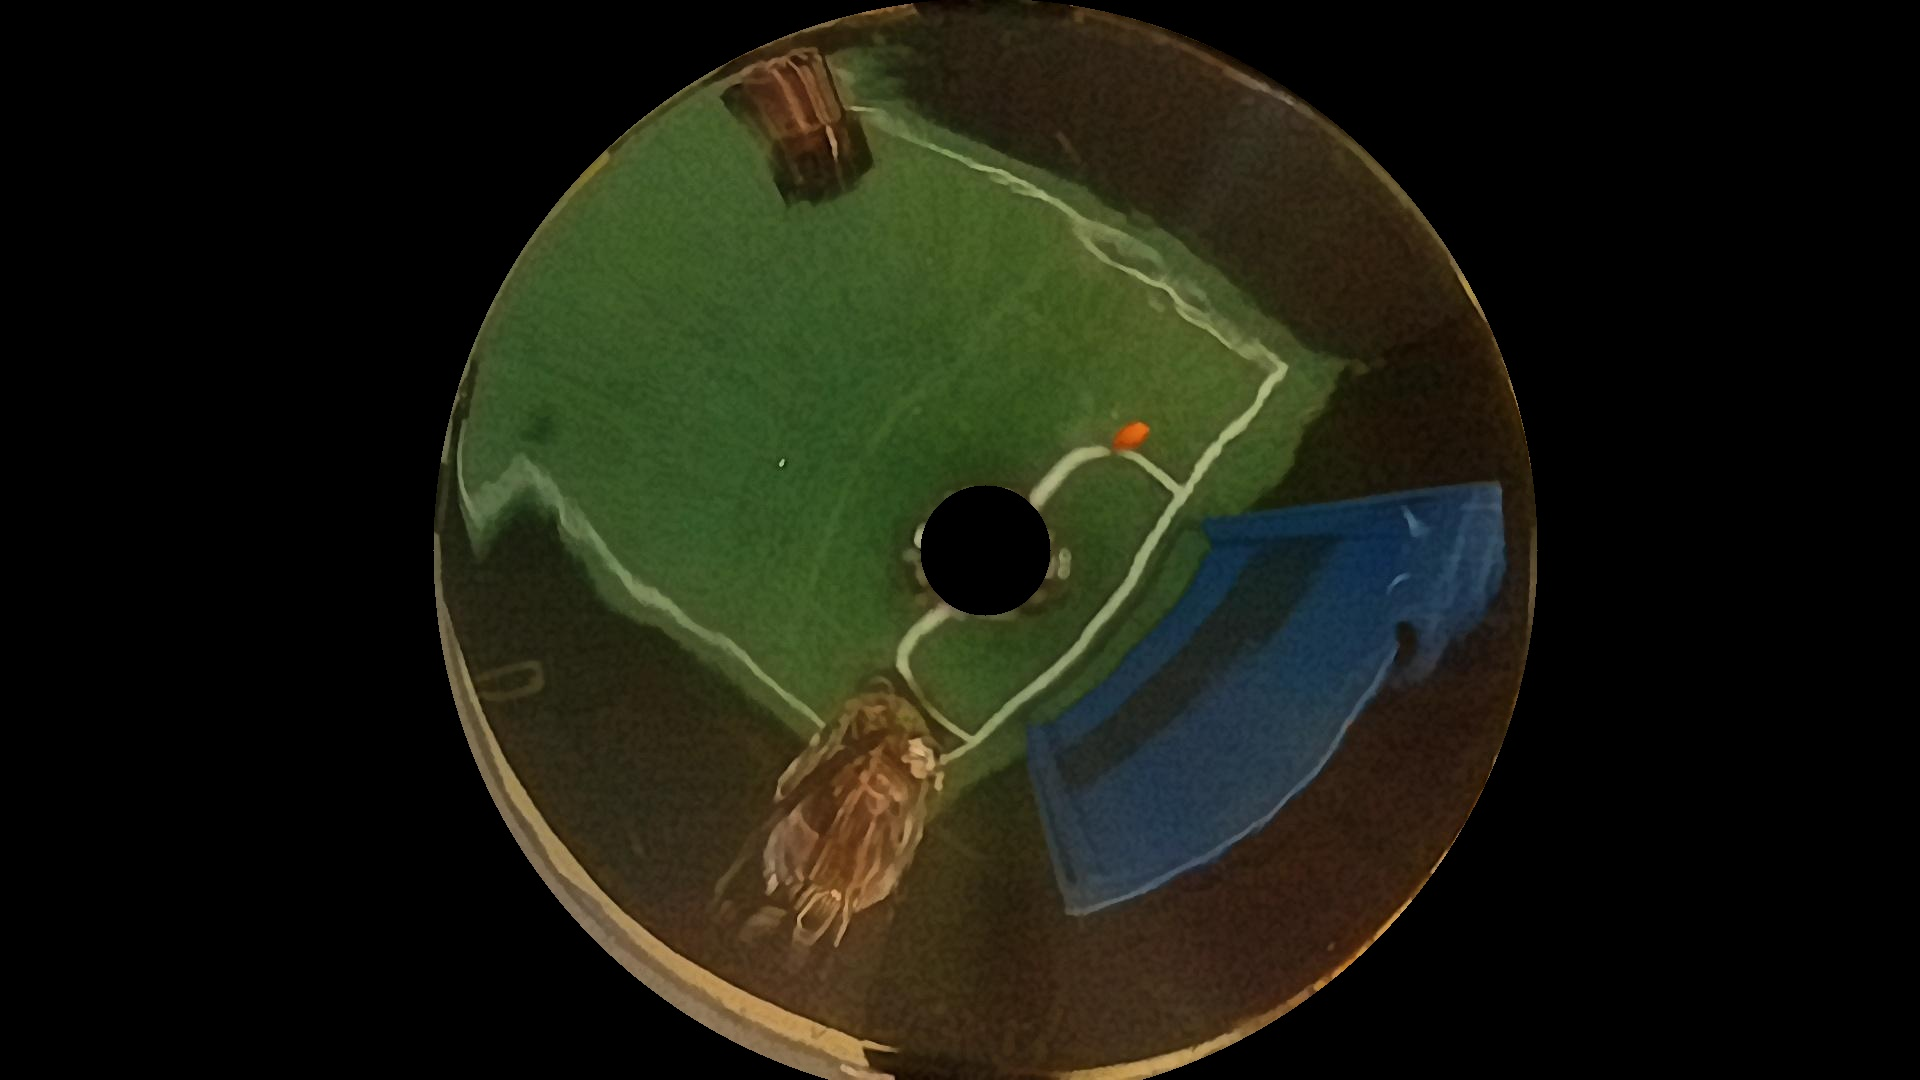ball: (1108, 413, 1154, 462)
blue-goal: (1092, 480, 1369, 880)
robots: (738, 674, 943, 927), (713, 32, 893, 219)
